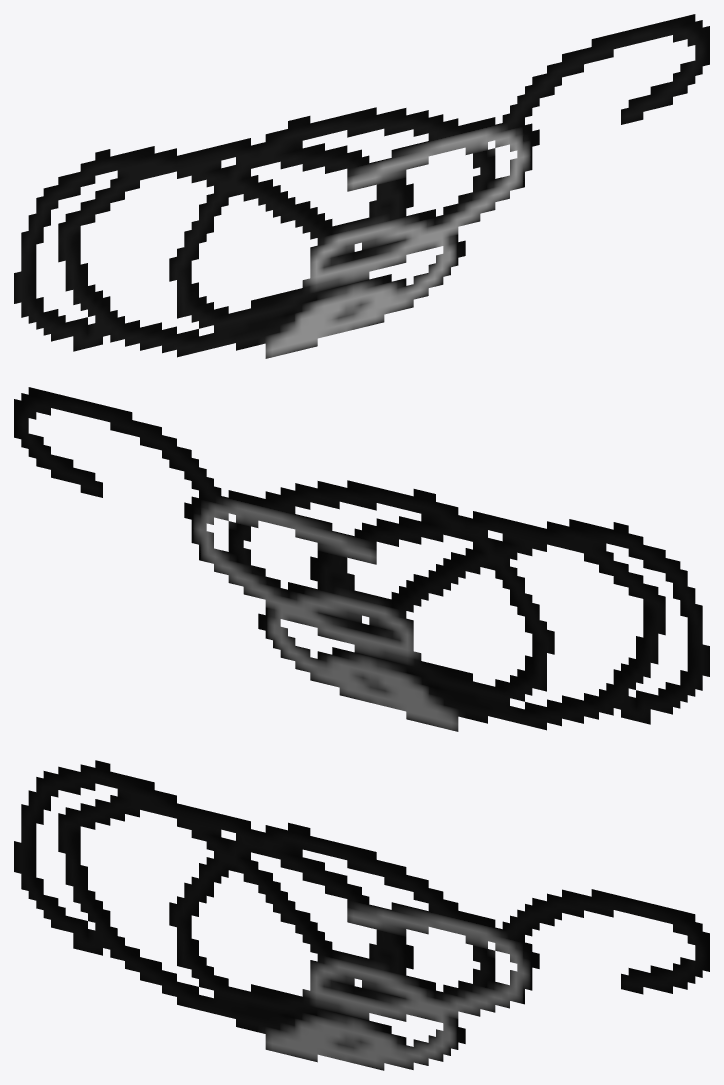
The model's file is drawing_20260427_174312.obj.
3 views of the same model, one above another, from view 1: azimuth 30°, elevation 25°; view 2: azimuth 150°, elevation 25°; view 3: azimuth 330°, elevation 25° (orthographic).
Visible parts, largest first — view 1: DrawingExtruded; view 2: DrawingExtruded; view 3: DrawingExtruded.
Part boxes in pixels (left/top/right/bottom): DrawingExtruded: left=14, top=14, right=709, bottom=358; DrawingExtruded: left=14, top=387, right=709, bottom=731; DrawingExtruded: left=14, top=760, right=709, bottom=1070.
Size of the model in its own units: 94 by 32 by 0.
1 material, 1 textured.
